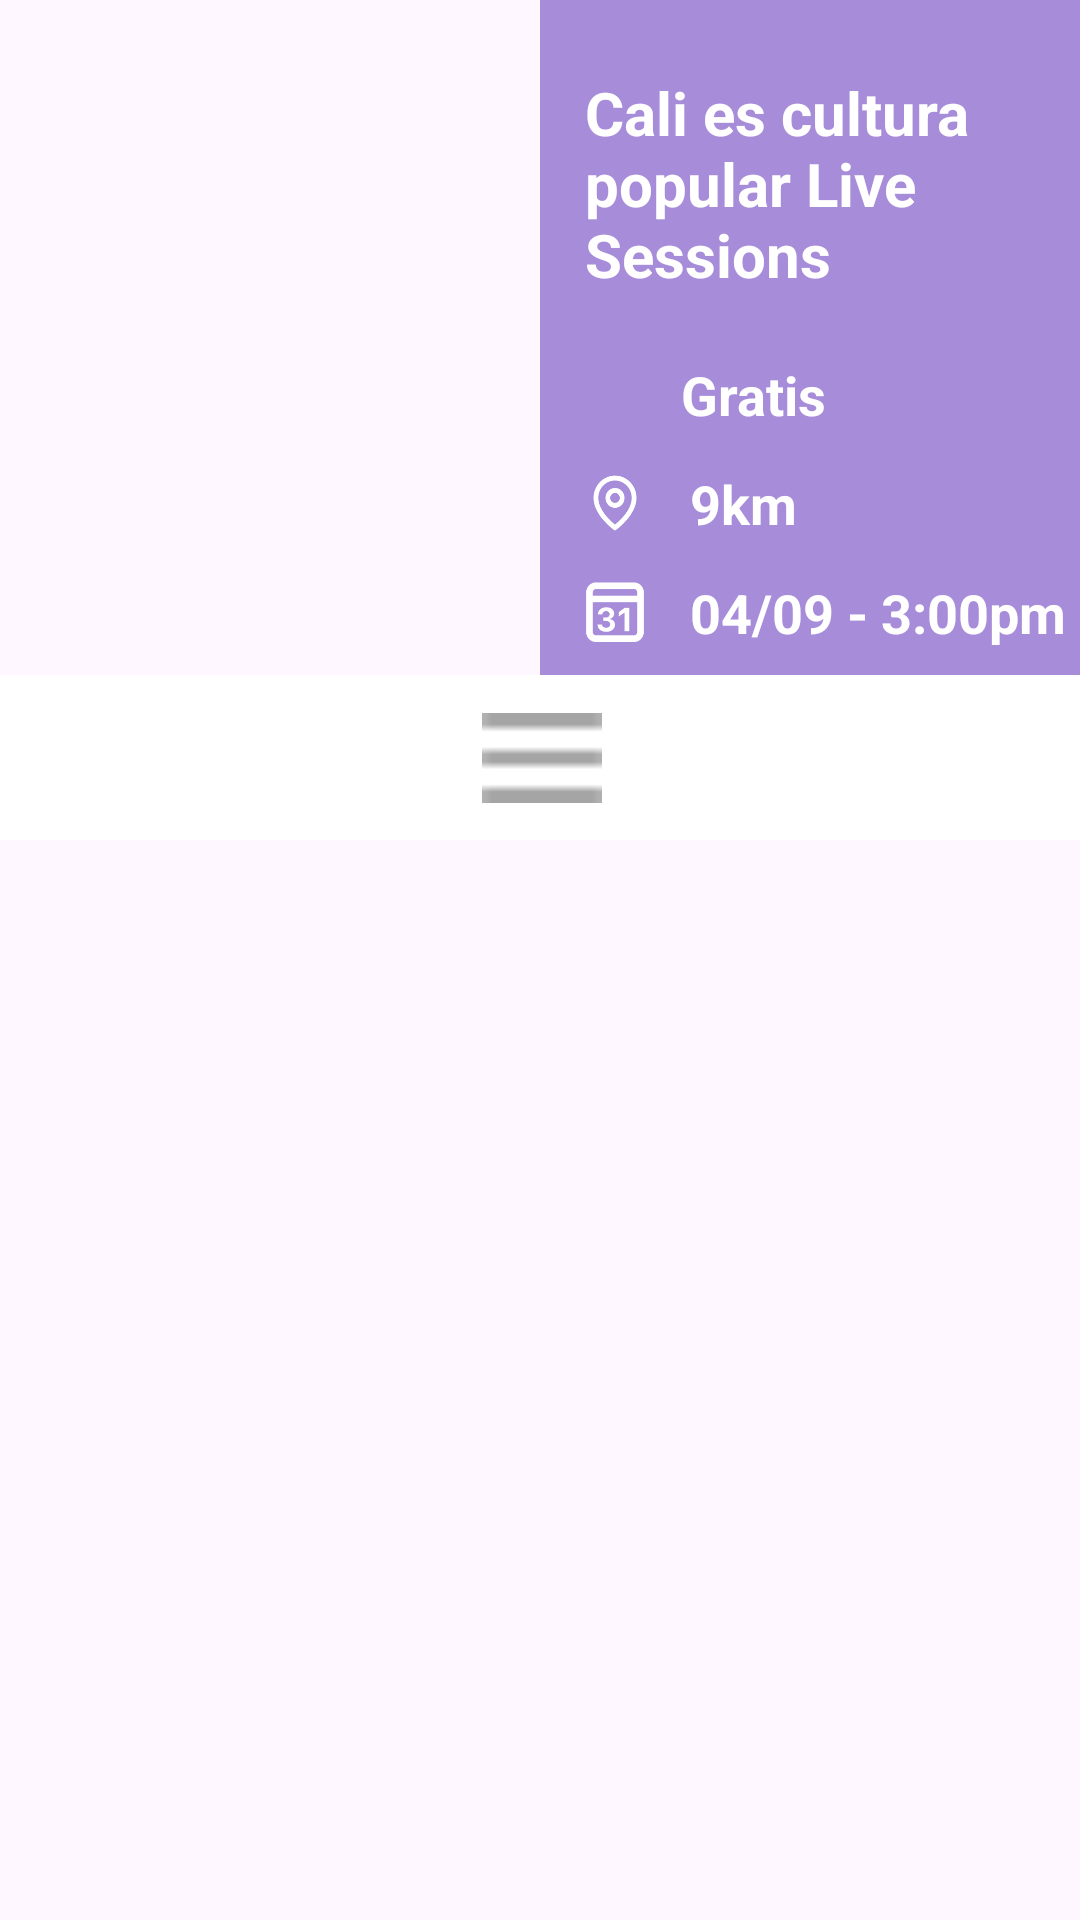

Point at icon controls on the screen. Image size 1080px×1920px, points as point (x, y).
calendar: point (615, 612)
location: point (615, 503)
